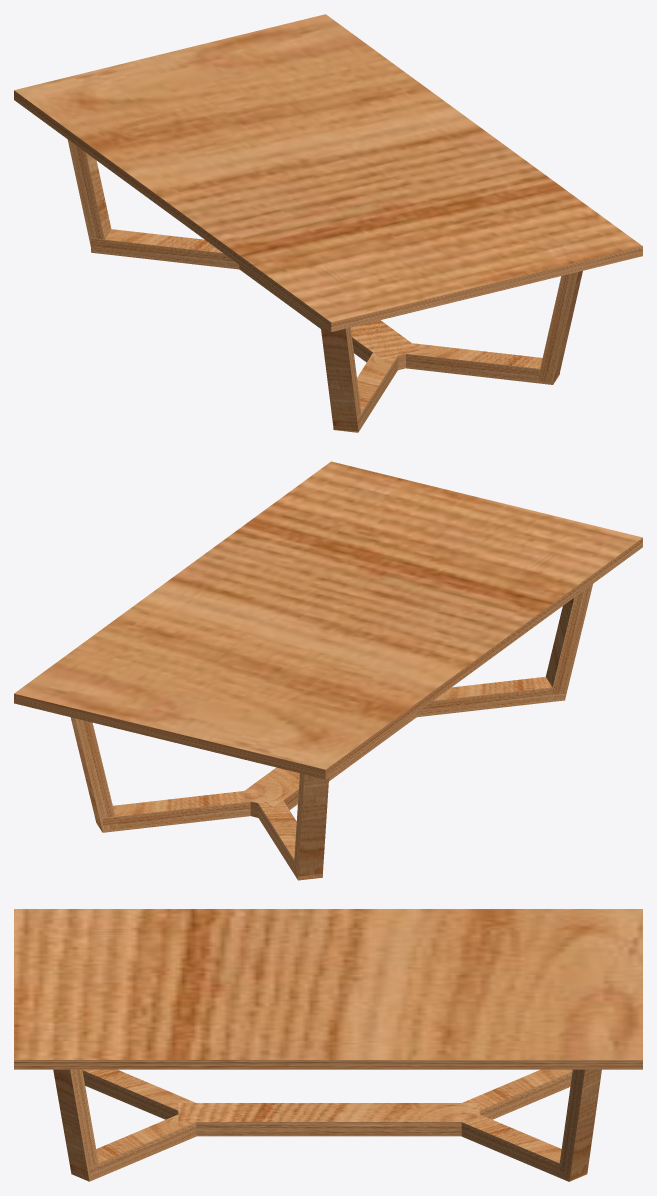
The model's file is mesa.obj.
The picture shows the model from 3 angles, top to bottom: view 1: azimuth 30°, elevation 25°; view 2: azimuth 150°, elevation 25°; view 3: azimuth 270°, elevation 25°; orthographic projection.
Visible parts, largest first — view 1: pCube13; view 2: pCube13; view 3: pCube13.
Boxes of the visible parts, bbox=[...] form: pCube13: bbox=[14, 14, 642, 432]; pCube13: bbox=[14, 461, 642, 880]; pCube13: bbox=[14, 909, 642, 1181].
Bounding box in the file's own units: 4.43 × 1.97 × 7.81.
Materials: 2 (2 with a texture image).
